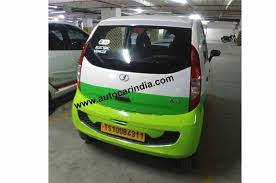Nano: (71, 12, 221, 158)
